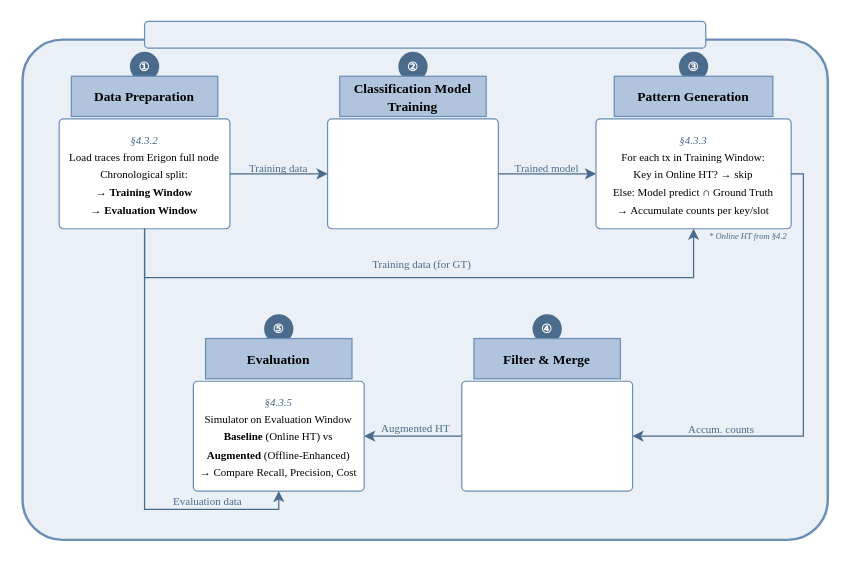
This 849x562 diagram has some shape labels left out. The shapes that lost their labels are listed below. From the top down, each one's centre as x and y in pixels, then its label:
pixel 424 34: Offline Pipeline: Incremental Pattern Generation & Evaluation (§4.3)
pixel 412 173: §4.3.1 Multi-label classifier 8 input features
pixel 547 435: §4.3.4 • Minimum support • Per-key slot cap → Validated slots → Augmented HT
